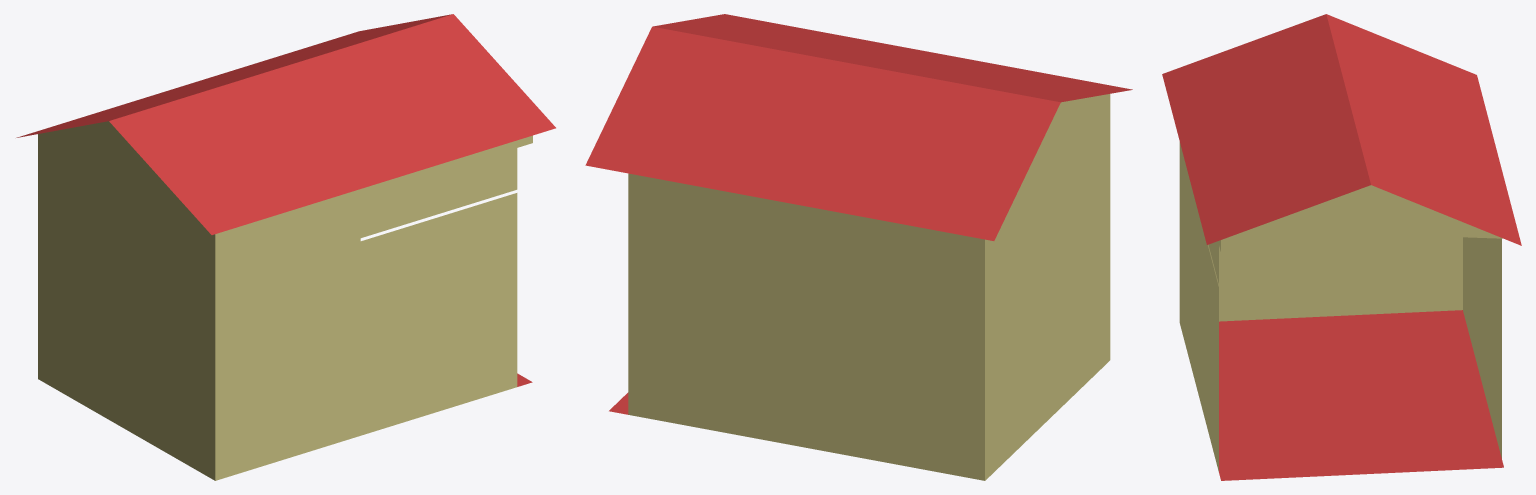
3 views of the same model, side by side, from view 1: azimuth 30°, elevation 25°; view 2: azimuth 150°, elevation 25°; view 3: azimuth 270°, elevation 25° (orthographic). The views are drawn at different scales.
Bounding box in the file's own units: 13.7 × 11.21 × 10.16.
